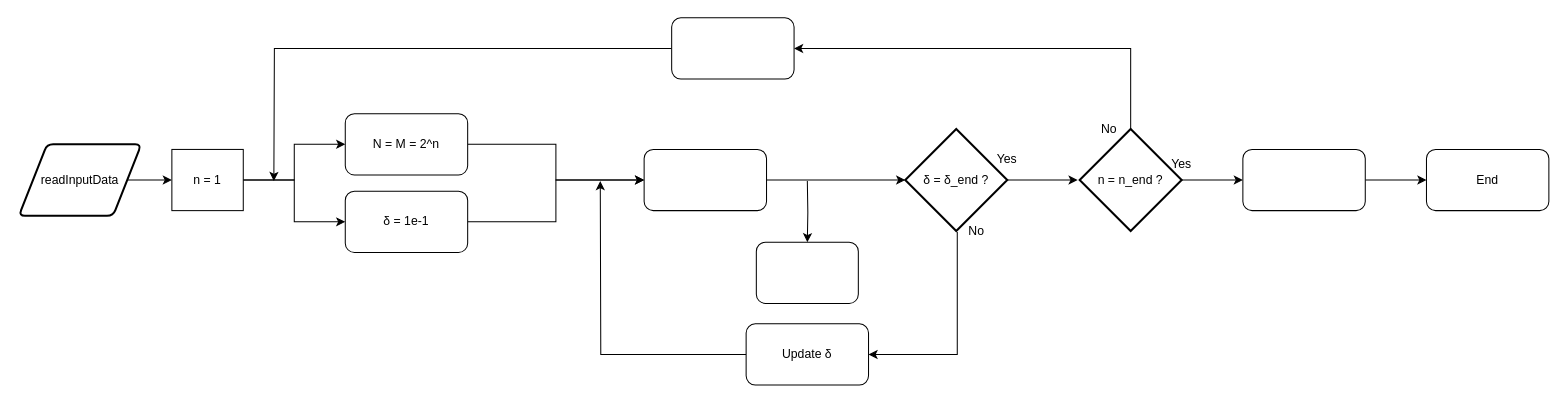
Image size: 1567x403. Some labels were removed from this diagram. Each missing label, with the centre of its shape:
"n = n+1" goes at (x=732, y=48).
"Plot results" goes at (x=1303, y=179).
"Save iteration" goes at (x=806, y=272).
"Solve system" goes at (x=705, y=179).
